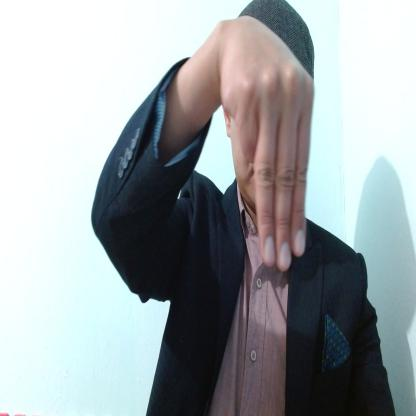M: (220, 22, 312, 270)
